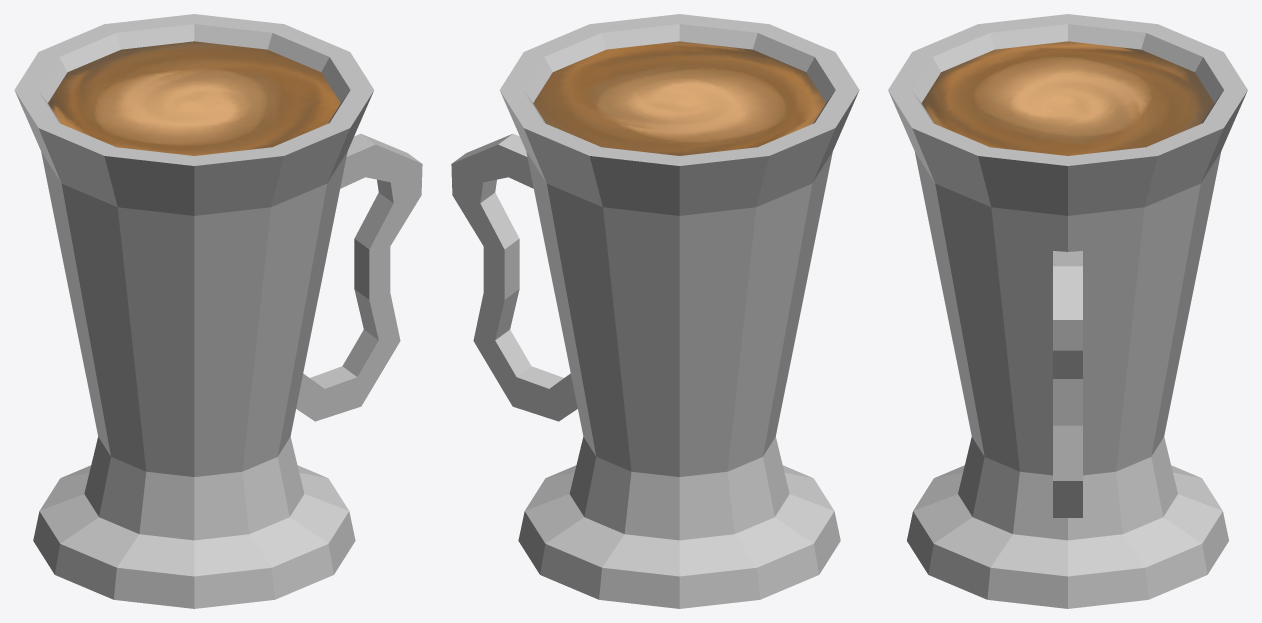
File: coffee_cup_4.obj
3 views of the same model, side by side, from view 1: azimuth 30°, elevation 25°; view 2: azimuth 150°, elevation 25°; view 3: azimuth 270°, elevation 25° (orthographic).
Parts seen in each view (by area): view 1: coffee_cup_4; view 2: coffee_cup_4; view 3: coffee_cup_4.
Part boxes in pixels (bbox=[...]): coffee_cup_4: bbox=[14, 14, 422, 608]; coffee_cup_4: bbox=[451, 14, 859, 608]; coffee_cup_4: bbox=[888, 14, 1247, 608].
Bounding box in the file's own units: 0.1405 × 0.1608 × 0.1163.
